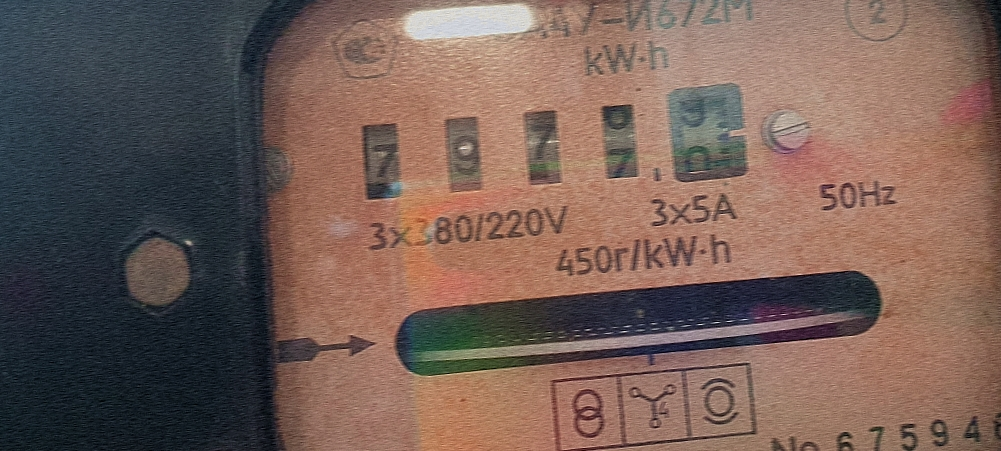0: (680, 134, 717, 176)
7: (368, 134, 403, 180), (526, 114, 560, 160), (605, 139, 639, 177)
9: (447, 126, 485, 174), (677, 87, 711, 126)
screen: (337, 56, 777, 236)
